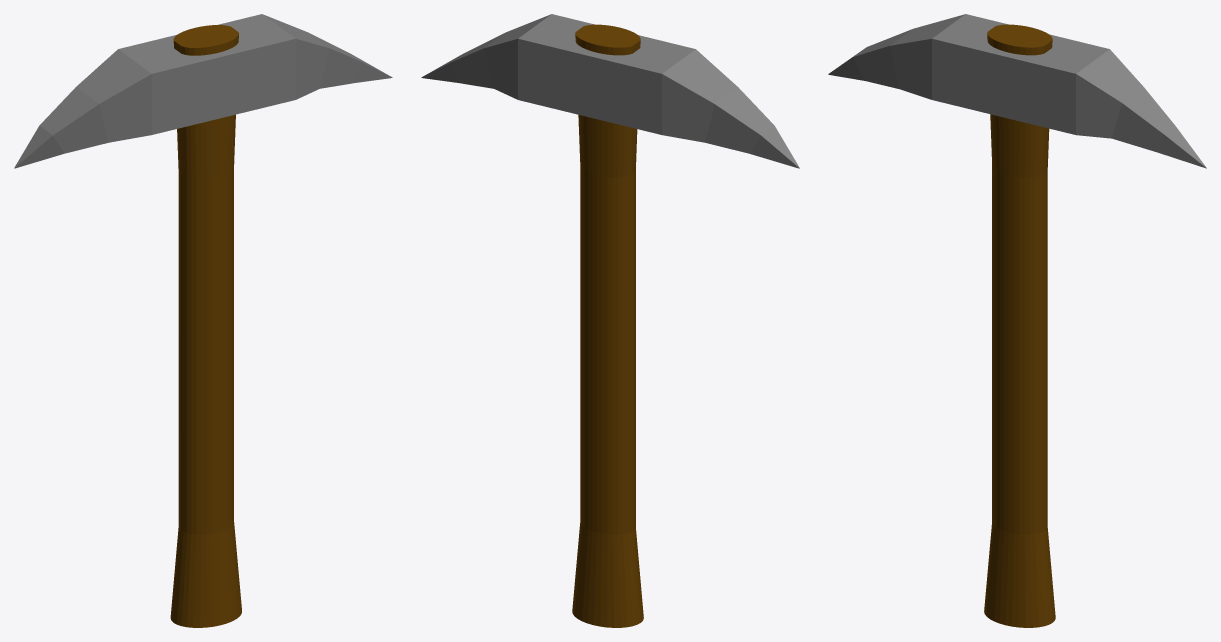
File: StonePickaxe.fbx
3 views of the same model, side by side, from view 1: azimuth 30°, elevation 25°; view 2: azimuth 150°, elevation 25°; view 3: azimuth 330°, elevation 25° (orthographic).
Parts seen in each view (by area): view 1: StonePickaxe; view 2: StonePickaxe; view 3: StonePickaxe.
Part boxes in pixels (box(x1,y1,x2,y2)): StonePickaxe: box(14, 14, 392, 627); StonePickaxe: box(421, 14, 799, 627); StonePickaxe: box(828, 14, 1206, 627).
Size of the model in its own units: 148 by 216 by 22.88.
